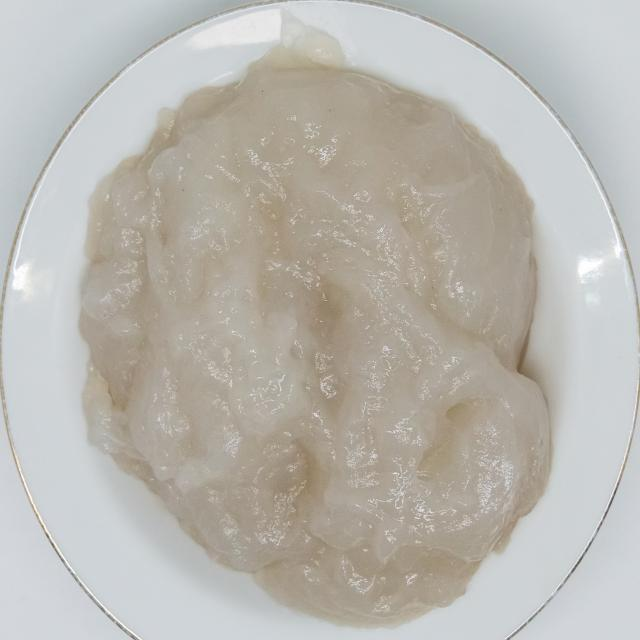Papeda: (76, 29, 550, 621)
